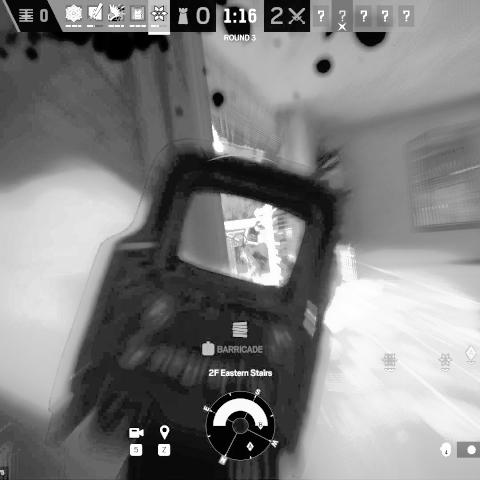Character: (240, 220, 269, 282)
Head: (253, 220, 263, 232)
